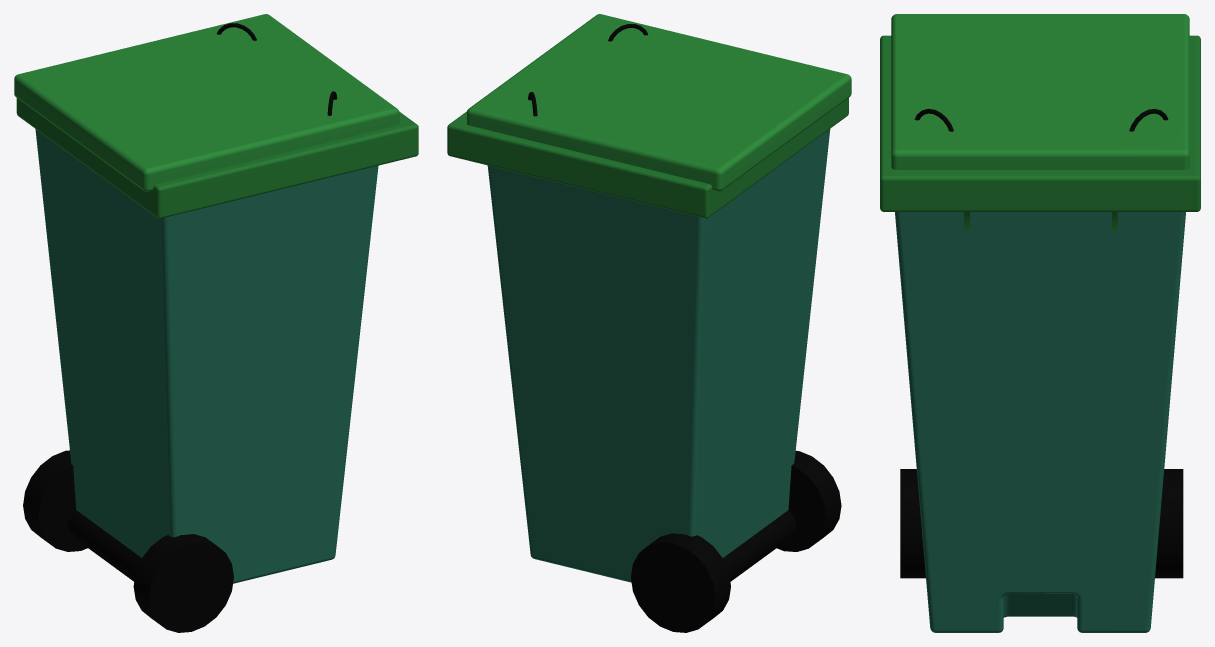
File: Garbage Bin.fbx
3 renders of one model, left to right at view 1: azimuth 30°, elevation 25°; view 2: azimuth 150°, elevation 25°; view 3: azimuth 270°, elevation 25°, orthographic. The views are drawn at different scales.
Visible parts, largest first — view 1: pCube8; view 2: pCube8; view 3: pCube8.
Boxes of the visible parts, x1,y1,x2,y2 form: pCube8: [14, 14, 418, 632]; pCube8: [447, 14, 851, 632]; pCube8: [880, 14, 1200, 632].
Bounding box in the file's own units: 3.72 × 6.44 × 3.41.
